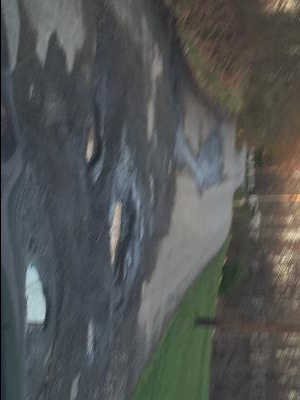pothole: (107, 189, 138, 281), (21, 259, 52, 333), (0, 81, 17, 165), (82, 106, 104, 169), (87, 319, 99, 359)
